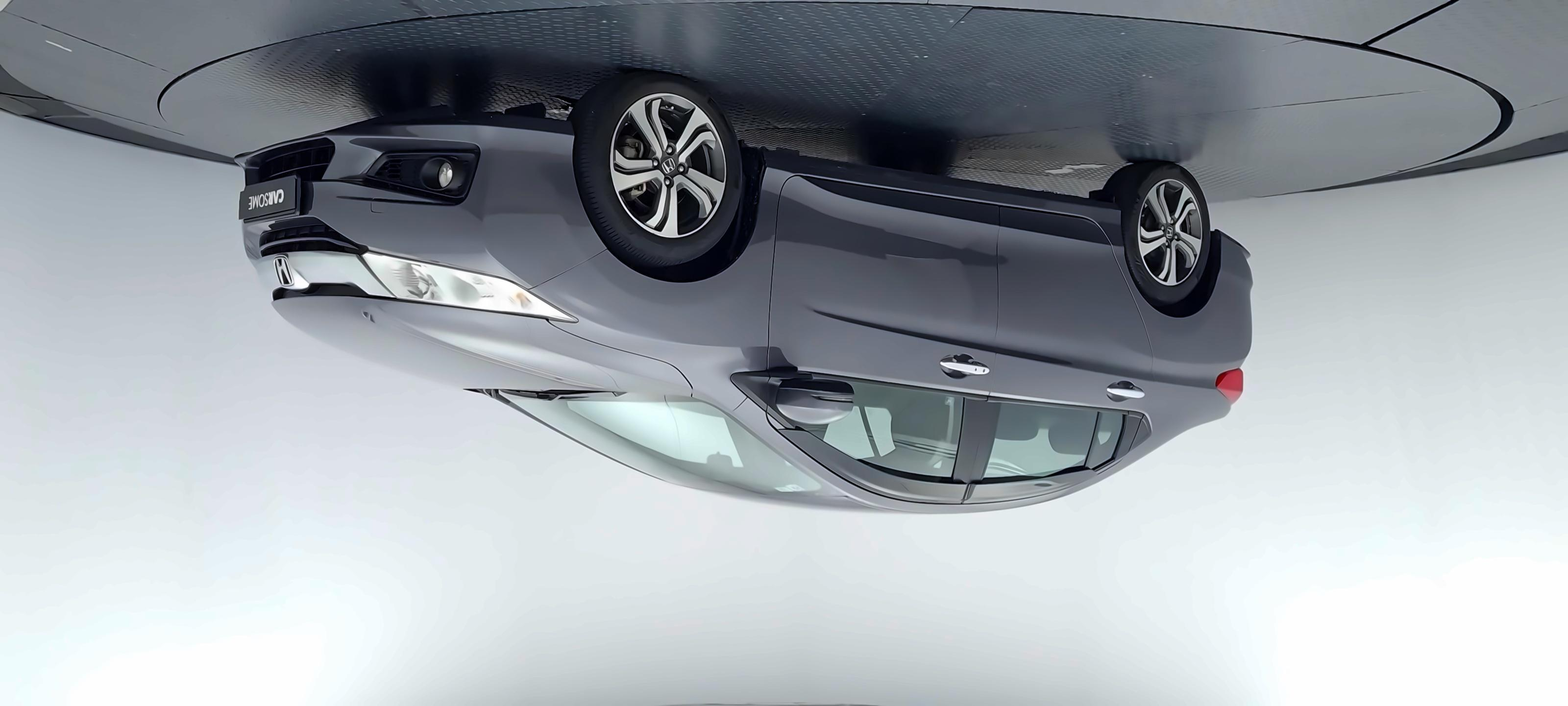Car hood: (265, 293, 695, 402)
Driver-s door - -F-R-: (751, 131, 1007, 522)
Fender - -F-R-: (528, 136, 791, 408)
Fender - -R-R-: (1095, 194, 1255, 457)
Front bumper: (236, 114, 613, 289)
Headlight - -R-: (358, 250, 580, 322)
Passenger-s door - -R-R-: (960, 136, 1160, 532)
Rear light - -R-: (1212, 365, 1245, 407)
Side bumper - -R-: (754, 125, 1129, 276)
Side mirror - -R-: (733, 370, 858, 430)
